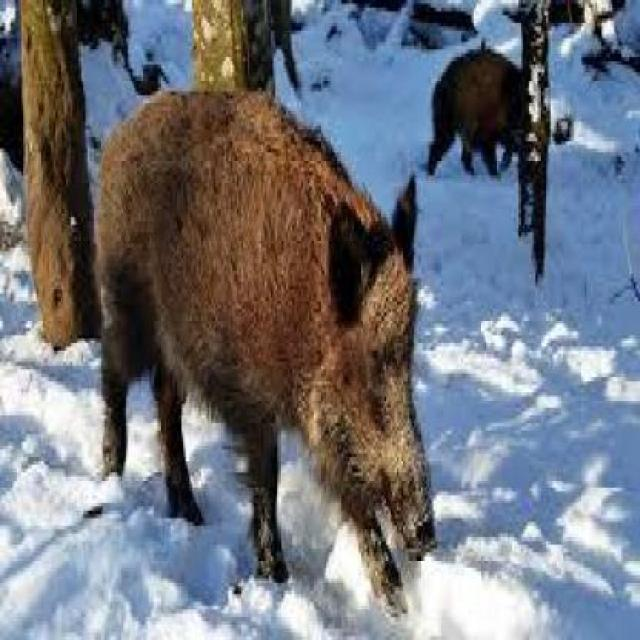wildboar: (81, 78, 445, 640), (422, 40, 563, 185)
